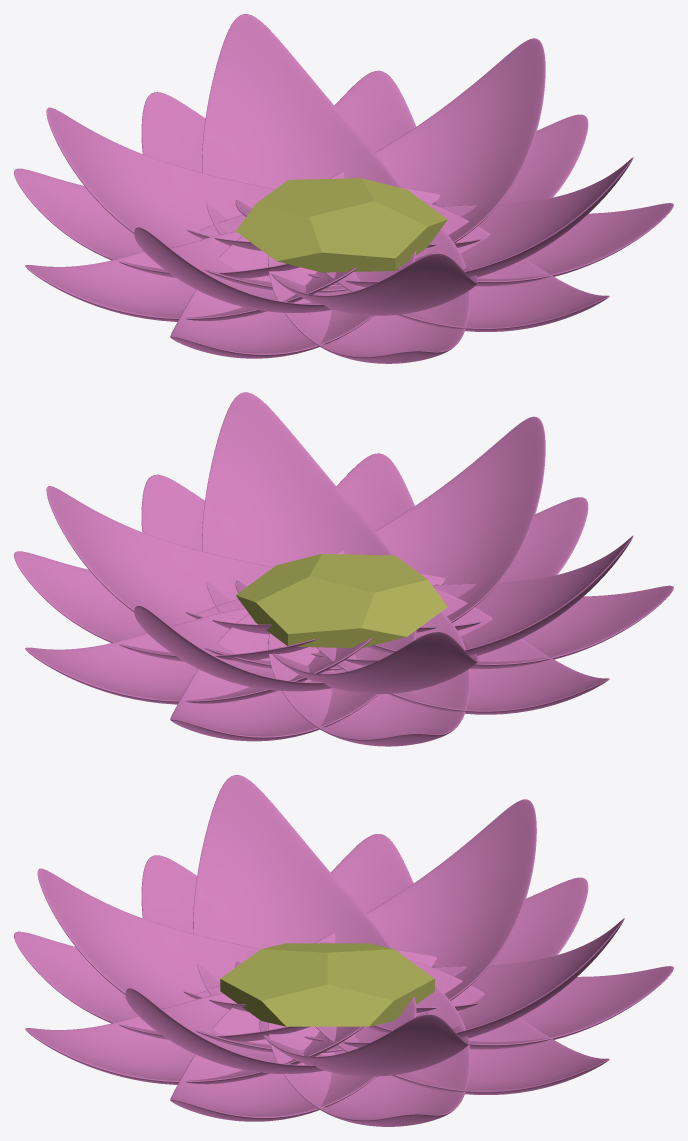
The model's file is lotus flower open.fbx.
3 renders of one model, top to bottom at view 1: azimuth 30°, elevation 25°; view 2: azimuth 150°, elevation 25°; view 3: azimuth 270°, elevation 25°, orthographic.
Visible parts, largest first — view 1: pCube13, pCube18, pPlatonic1, pCube14, pCube10, pCube6, pCube5, pCube11, pCube17, pCube9, pCube16, pCube7 (+4 smaller); view 2: pCube17, pCube16, pPlatonic1, pCube18, pCube3, pCube9, pCube8, pCube5, pCube15, pCube12, pCube10, pCube14 (+4 smaller); view 3: pCube15, pCube14, pPlatonic1, pCube16, pCube12, pCube7, pCube8, pCube11, pCube13, pCube3, pCube18, pCube6 (+4 smaller).
Boxes of the visible parts, x1,y1,x2,y2 form: pCube13: [202, 14, 399, 284]; pCube18: [330, 38, 545, 277]; pPlatonic1: [236, 178, 447, 272]; pCube14: [46, 107, 347, 292]; pCube10: [170, 236, 416, 358]; pCube6: [268, 228, 470, 363]; pCube5: [25, 214, 356, 321]; pCube11: [325, 201, 609, 331]; pCube17: [307, 157, 633, 287]; pCube9: [14, 168, 299, 278]; pCube16: [268, 253, 477, 315]; pCube7: [397, 187, 673, 286]; pCube17: [202, 392, 392, 612]; pCube16: [335, 416, 545, 639]; pPlatonic1: [236, 554, 447, 647]; pCube18: [46, 486, 342, 670]; pCube3: [170, 614, 416, 741]; pCube9: [268, 611, 470, 746]; pCube8: [25, 599, 372, 704]; pCube5: [317, 587, 609, 714]; pCube15: [311, 535, 633, 665]; pCube12: [14, 551, 316, 661]; pCube10: [367, 573, 673, 668]; pCube14: [268, 631, 477, 694]; pCube15: [193, 775, 390, 995]; pCube14: [315, 799, 536, 1037]; pPlatonic1: [220, 943, 434, 1026]; pCube16: [37, 868, 343, 1052]; pCube12: [268, 985, 470, 1126]; pCube7: [170, 996, 416, 1121]; pCube8: [315, 960, 609, 1094]; pCube11: [25, 985, 363, 1084]; pCube13: [304, 918, 624, 1047]; pCube3: [366, 949, 673, 1049]; pCube18: [259, 1014, 469, 1076]; pCube6: [14, 931, 310, 1041].
Size of the model in its own units: 10 by 2.43 by 9.94.
